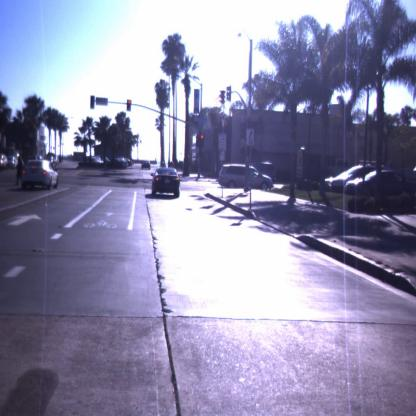trafficlight: (197, 132, 207, 152), (124, 96, 132, 114)
